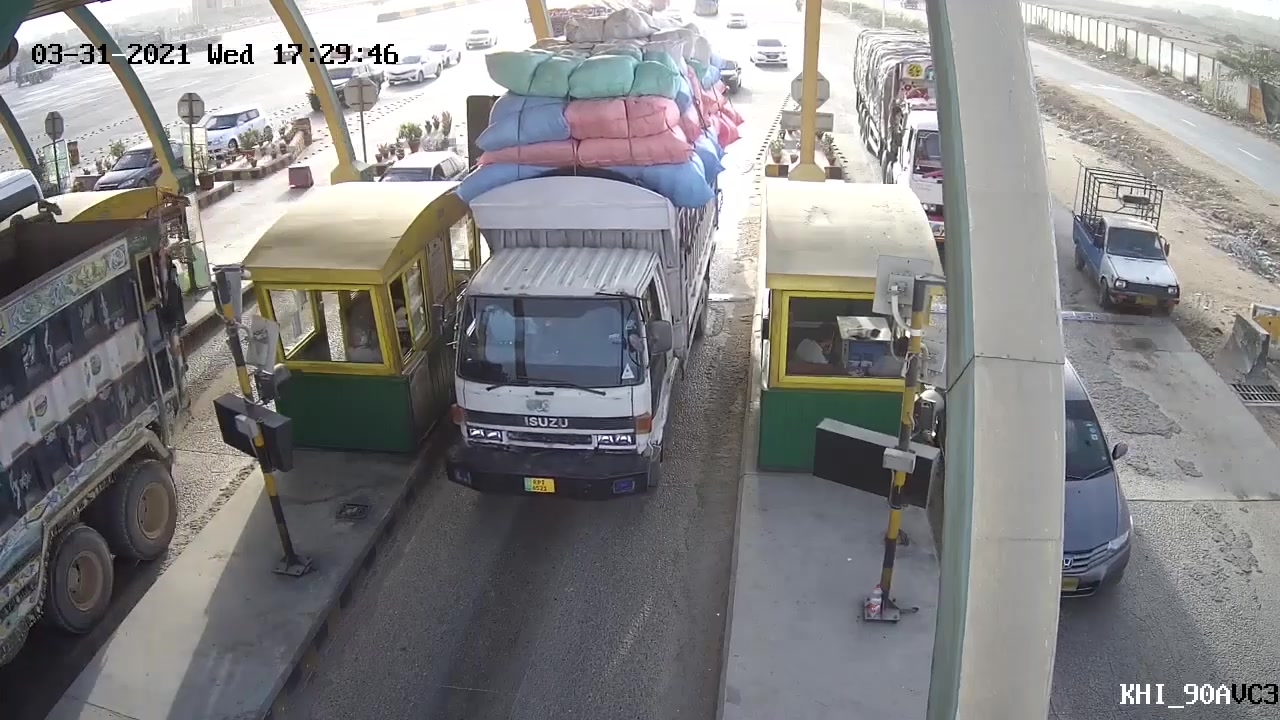F5: (430, 48, 694, 512)
